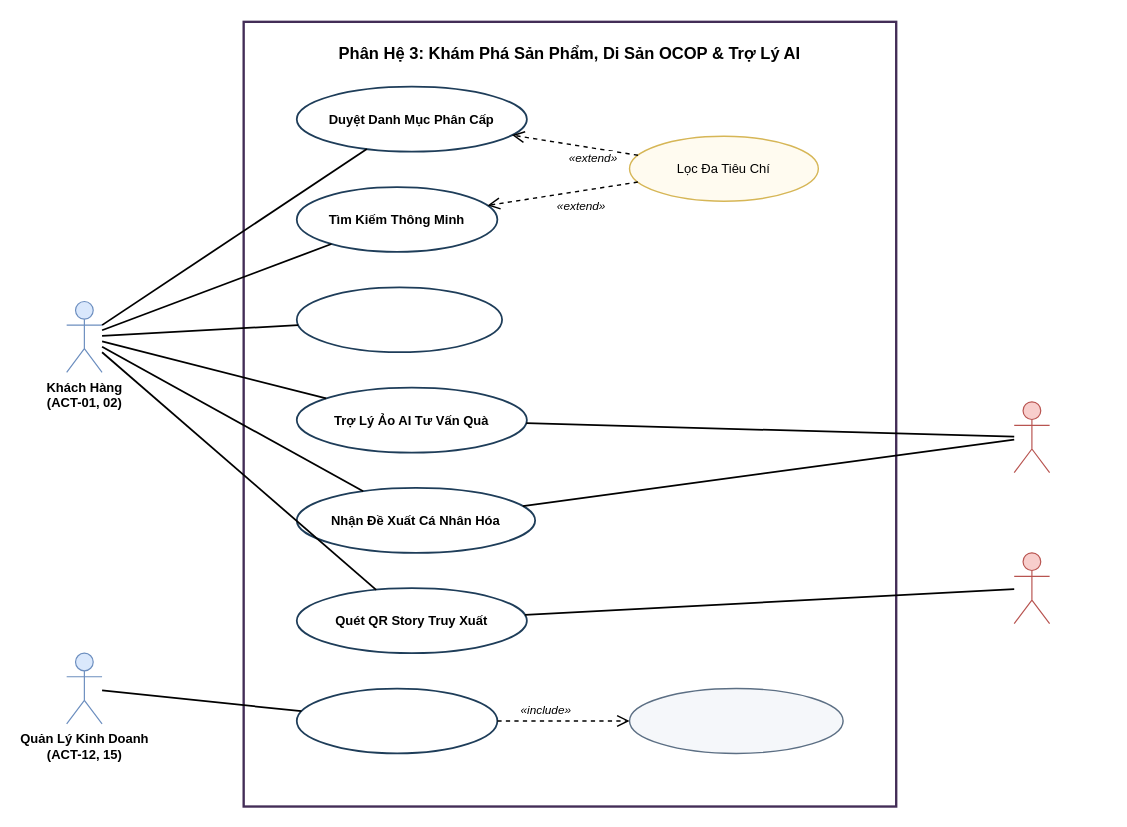
Some shapes in this 1127 by 827 pixel diagram are drawn without their labels. The centre of each missing label's shape, as x and y in pixels:
AI Provider (EXT-08): (x=1031, y=437)
Cổng Nguồn Gốc OCOP (EXT-10): (x=1031, y=588)
Quản Lý Chuỗi OCOP: (x=396, y=720)
Xem Câu Chuyện Cố Đô: (x=398, y=319)
Xác Thực Dữ Liệu OCOP: (x=735, y=720)
